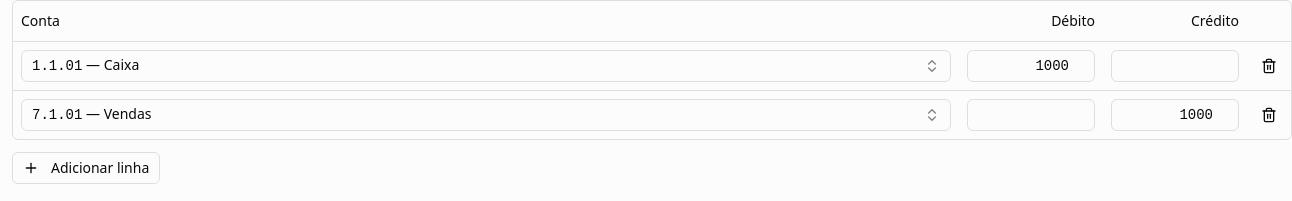
Test: LinhasLancamentoEditor › remove uma linha ao clicar em remover
Step 1. Click the 1st button named "Remover linha" → x=1269, y=66, box [1255,52,1283,80]
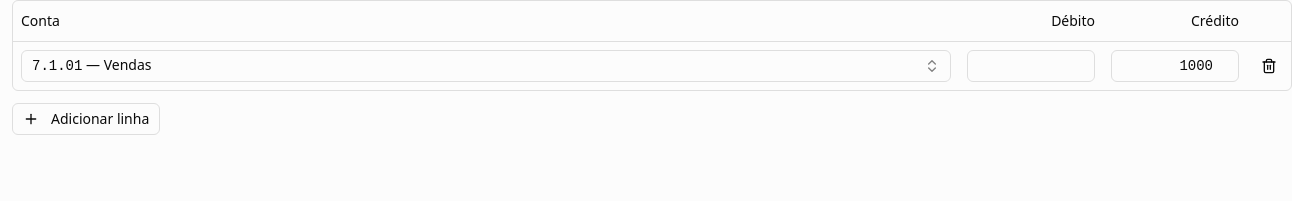
Result: the number of number fields named "Débito" is 1 at [967,50,1095,82]
